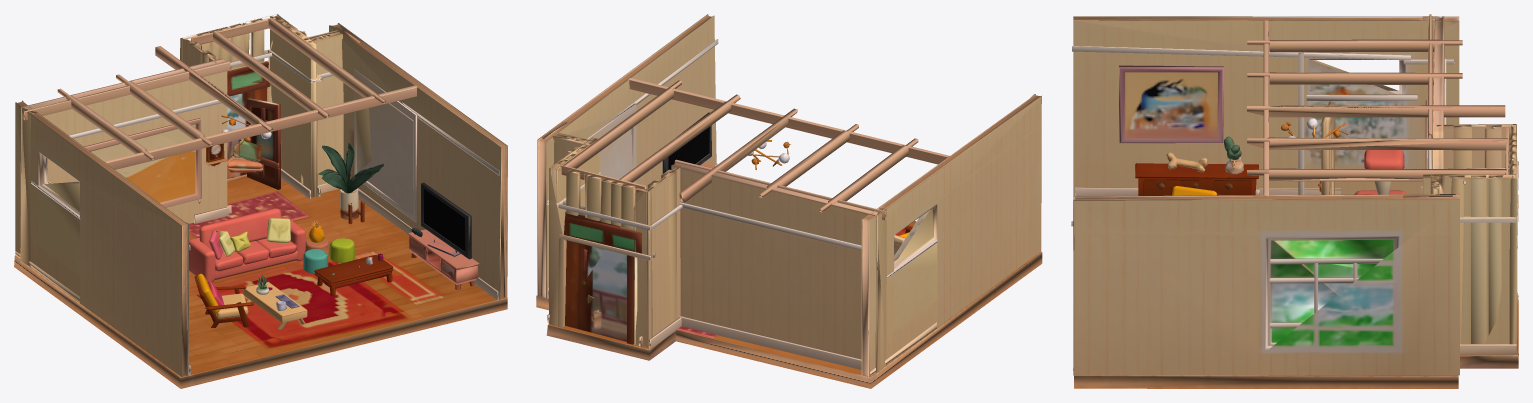
File: heeler_house_interior.glb
The picture shows the model from 3 angles, left to right: view 1: azimuth 30°, elevation 25°; view 2: azimuth 150°, elevation 25°; view 3: azimuth 270°, elevation 25°; orthographic projection. The views are drawn at different scales.
Visible parts, largest first — view 1: geometry_0; view 2: geometry_0; view 3: geometry_0.
Boxes of the visible parts, x1=… form: geometry_0: x1=14, y1=14, x2=507, y2=388; geometry_0: x1=536, y1=14, x2=1042, y2=388; geometry_0: x1=1071, y1=14, x2=1518, y2=388.
Bounding box in the file's own units: 0.9409 × 0.4531 × 0.9629.
Materials: 1 (1 with a texture image).
